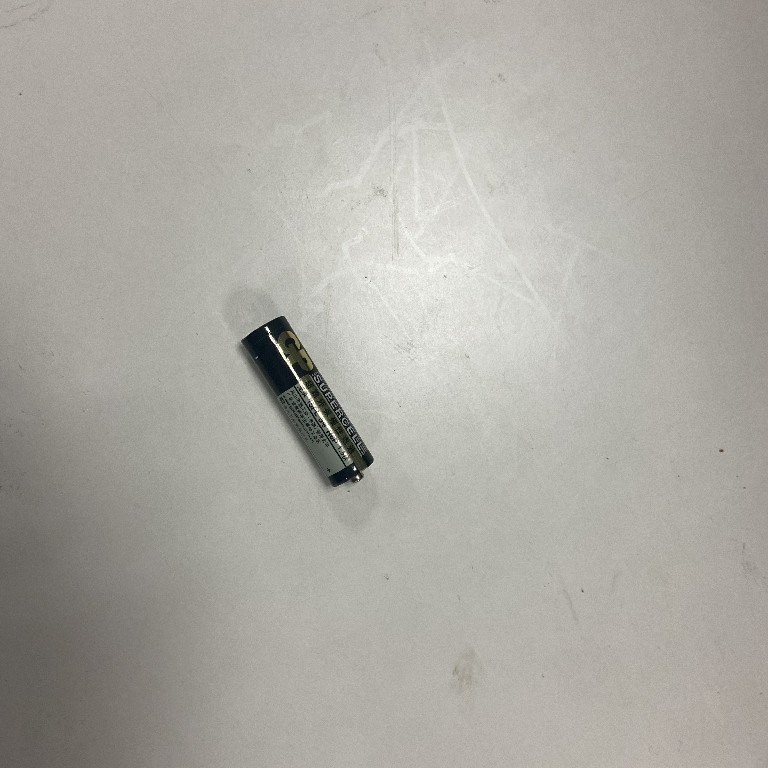charge: (239, 312, 380, 491)
